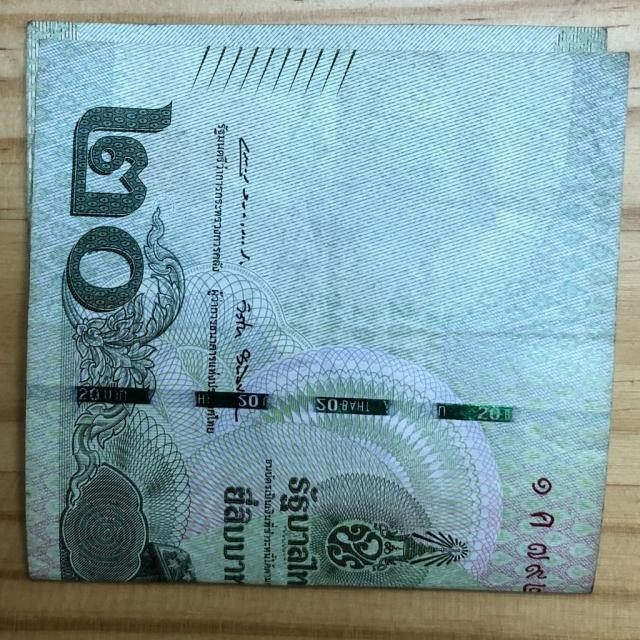THAI20: (25, 22, 628, 594)
